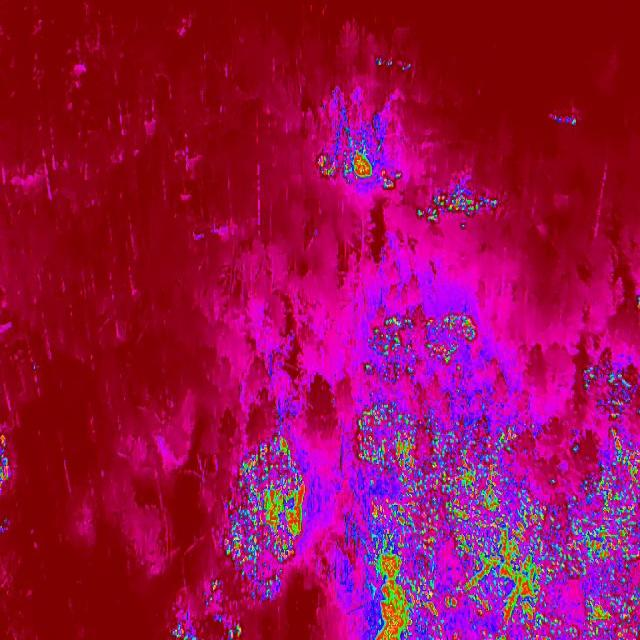fire: (355, 397, 548, 640), (222, 434, 314, 594), (549, 507, 640, 640), (363, 310, 482, 386), (578, 426, 640, 504), (311, 142, 406, 190), (416, 180, 498, 230), (584, 362, 634, 423), (0, 436, 13, 492), (549, 108, 581, 128), (172, 622, 200, 640), (207, 575, 224, 599), (226, 622, 244, 640), (376, 56, 394, 70), (401, 62, 414, 72), (570, 496, 577, 503)
